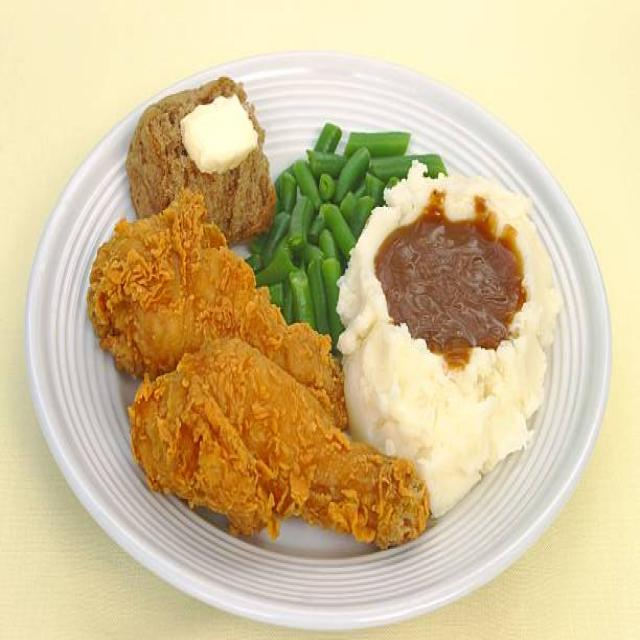Frango: (86, 177, 433, 552)
